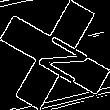N_NW: (23, 25, 87, 85)
